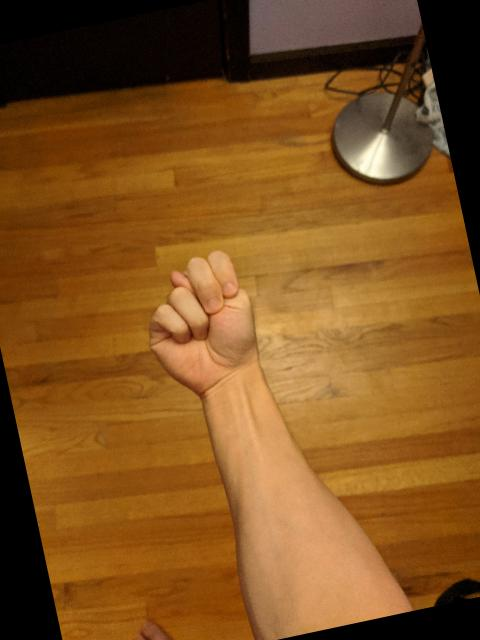N: (125, 240, 275, 409)
